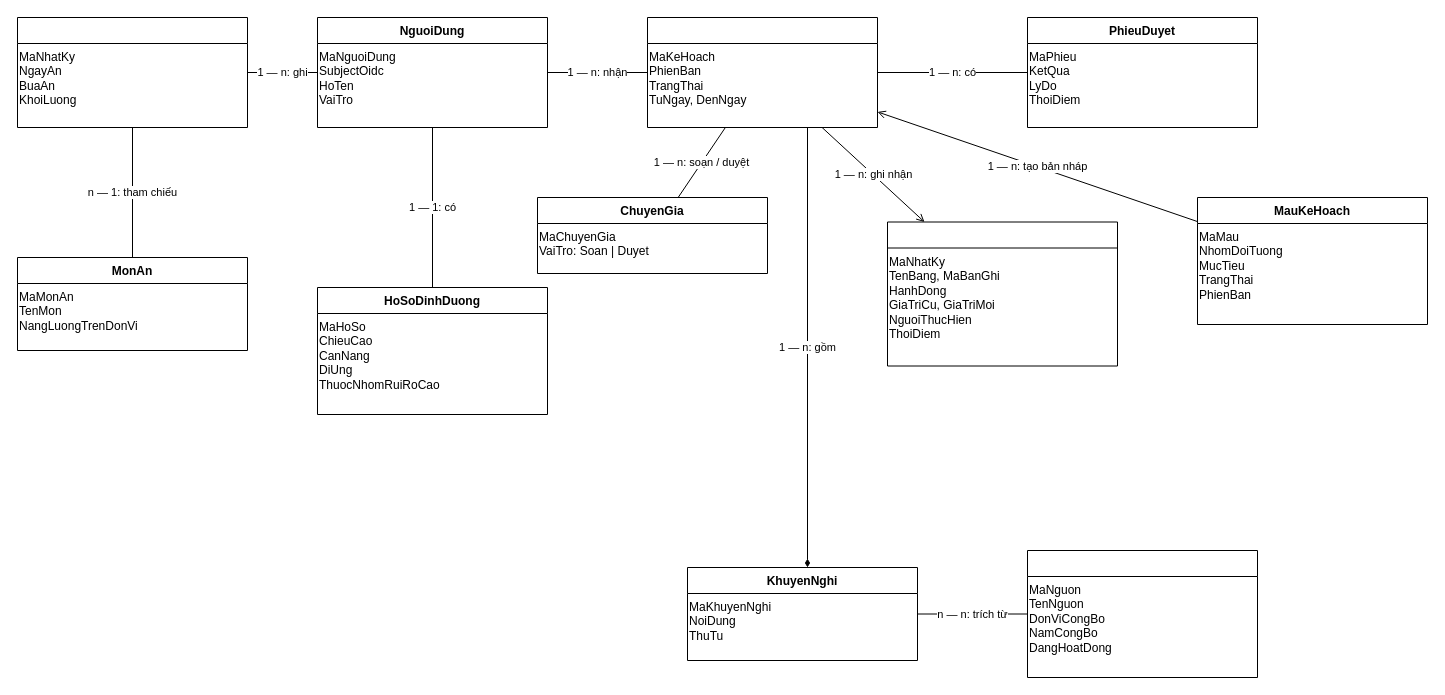
Image size: 1445x695. Some labels were removed from this diagram. Here are the shapes that lost their labels. From the top down, the box of each, then its label:
(16, 16, 248, 128): NhatKyAnUong
(646, 16, 878, 128): KeHoachDinhDuong
(886, 221, 1118, 366): NhatKyHieuChinh
(1026, 550, 1258, 678): NguonThamKhao
